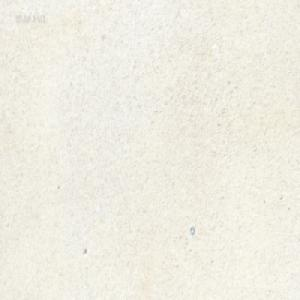Washer: (189, 226, 194, 235)
